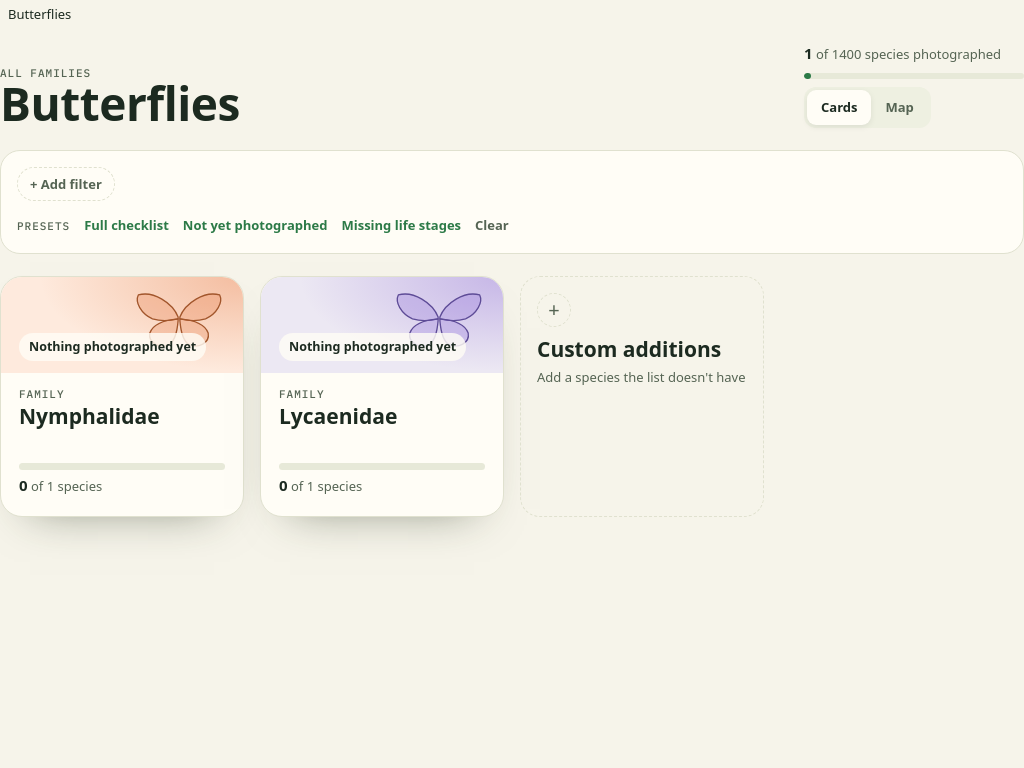
Test case: the Add dialog closed without adding gives focus back to the card
The width and height of the screenshot is (1024, 768).
What coordinates should you click on to do the following:
click the button "+ Custom additions Add a species the list doesn't have"
I would click on:
 (642, 396)
Its box is [520,276,764,517].
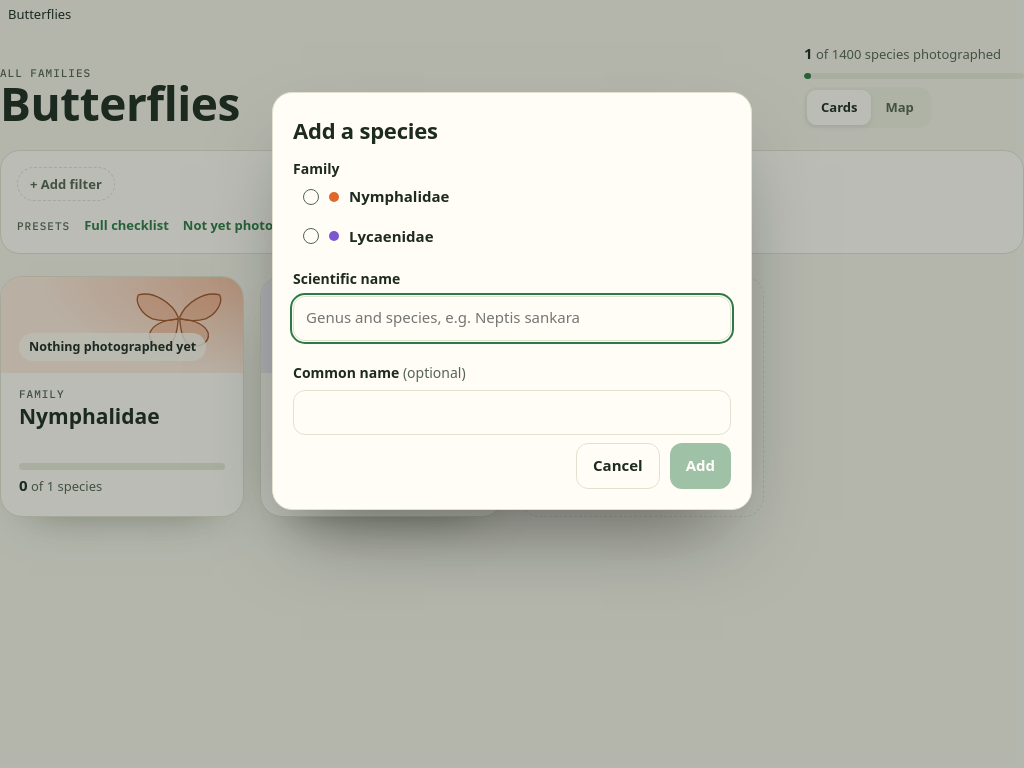
Expected: the dialog "Add a species" is shown, [272,92,752,510]
What coordinates should you click on to do the following:
click the button "Cancel"
I would click on:
 (618, 466)
Its box is [576,443,660,489].
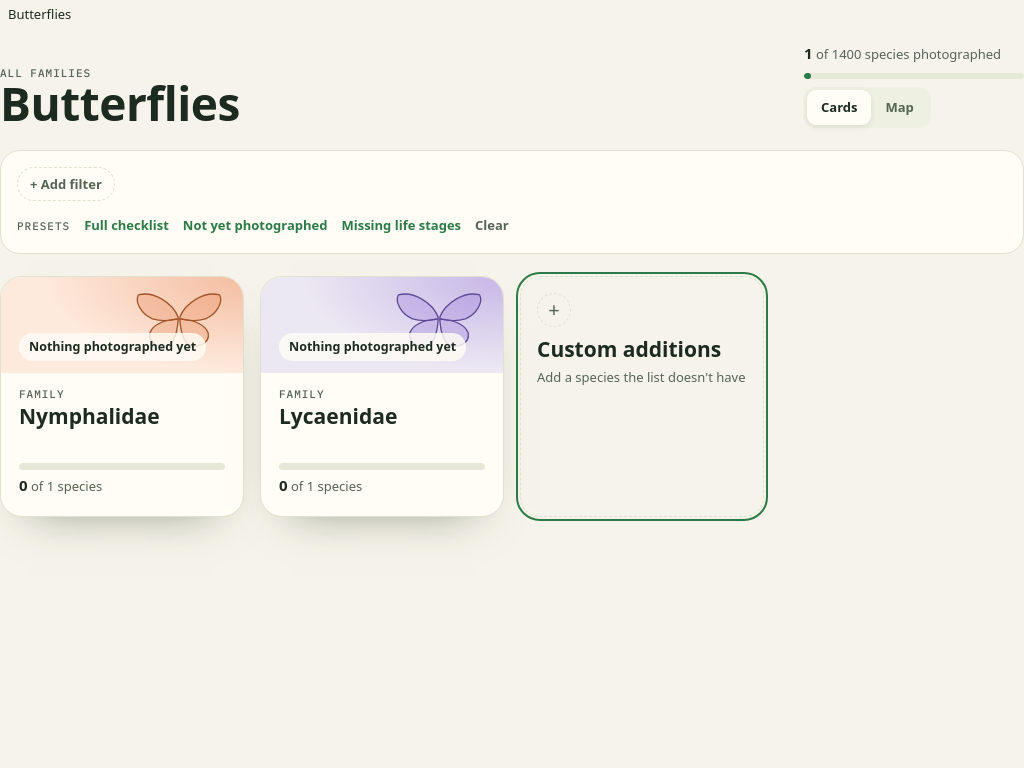
Expected: the dialog is gone
